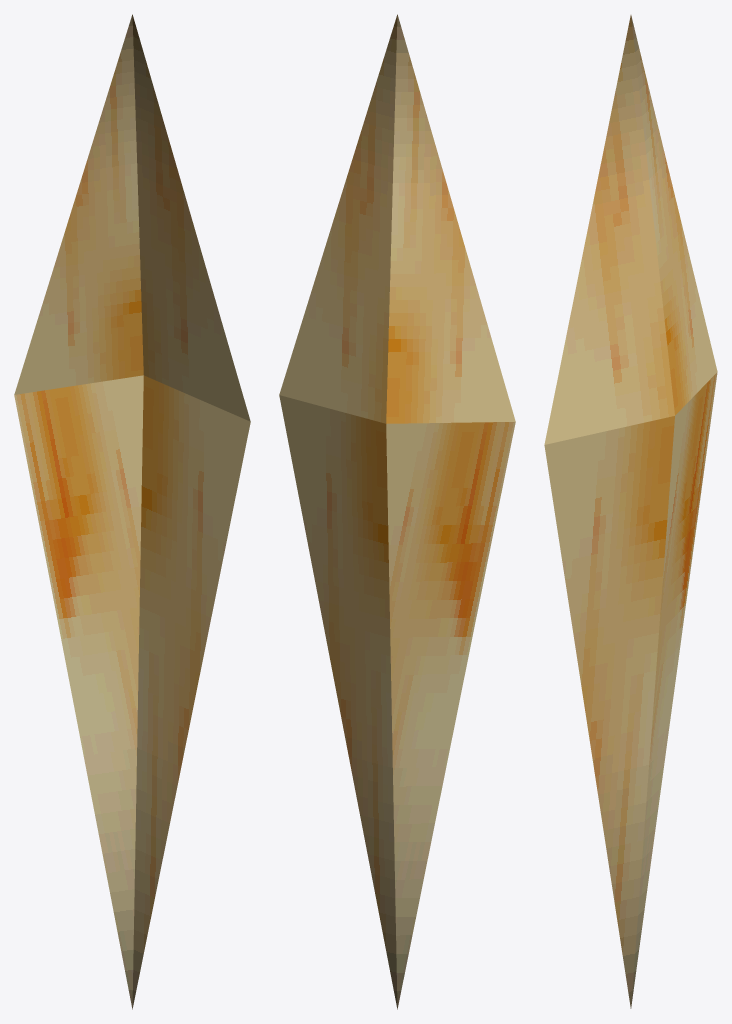
File: Eckverschluß [GelbesMetall]_1236.glb
The picture shows the model from 3 angles, left to right: view 1: azimuth 30°, elevation 25°; view 2: azimuth 210°, elevation 25°; view 3: azimuth 270°, elevation 25°; orthographic projection.
Visible parts, largest first — view 1: pPlaneShape11, pPlaneShape10, pPlaneShape8, pPlaneShape9; view 2: pPlaneShape11, pPlaneShape10, pPlaneShape8, pPlaneShape9; view 3: pPlaneShape10, pPlaneShape9, pPlaneShape11, pPlaneShape8.
Part boxes in pixels (x1=…): pPlaneShape11: x1=14, y1=375, x2=143, y2=1009; pPlaneShape10: x1=132, y1=375, x2=250, y2=1007; pPlaneShape8: x1=14, y1=14, x2=143, y2=394; pPlaneShape9: x1=132, y1=15, x2=250, y2=421; pPlaneShape11: x1=386, y1=421, x2=515, y2=1009; pPlaneShape10: x1=279, y1=395, x2=397, y2=1007; pPlaneShape8: x1=386, y1=14, x2=515, y2=423; pPlaneShape9: x1=279, y1=15, x2=397, y2=423; pPlaneShape10: x1=544, y1=416, x2=674, y2=1008; pPlaneShape9: x1=544, y1=15, x2=674, y2=444; pPlaneShape11: x1=631, y1=372, x2=717, y2=1008; pPlaneShape8: x1=631, y1=15, x2=717, y2=415.
Bounding box in the file's own units: 0.0549 × 0.3486 × 0.0549.
Materials: 4 (4 with a texture image).
